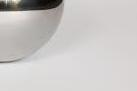ironball: (0, 0, 69, 67)
